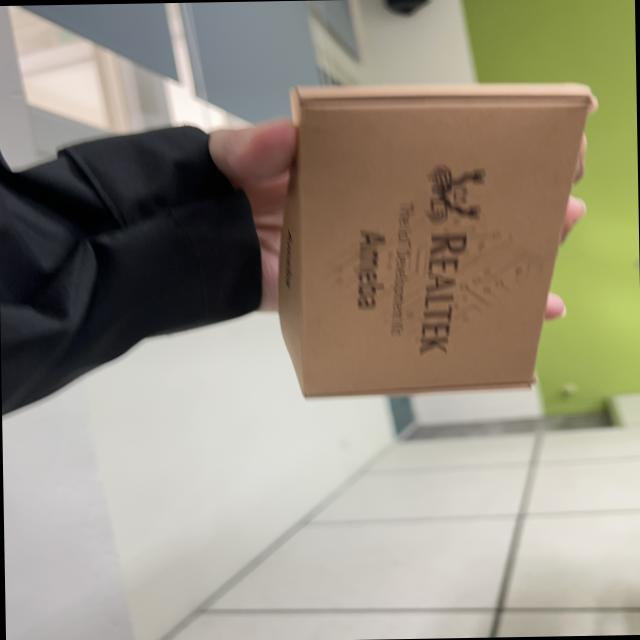box: (278, 60, 592, 410)
